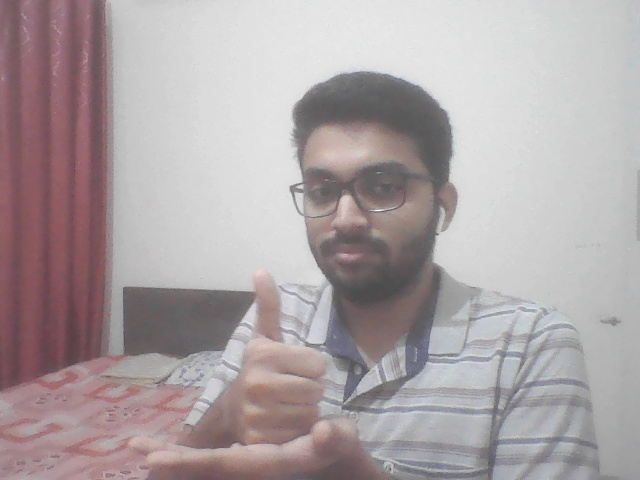help: (148, 264, 368, 477)
